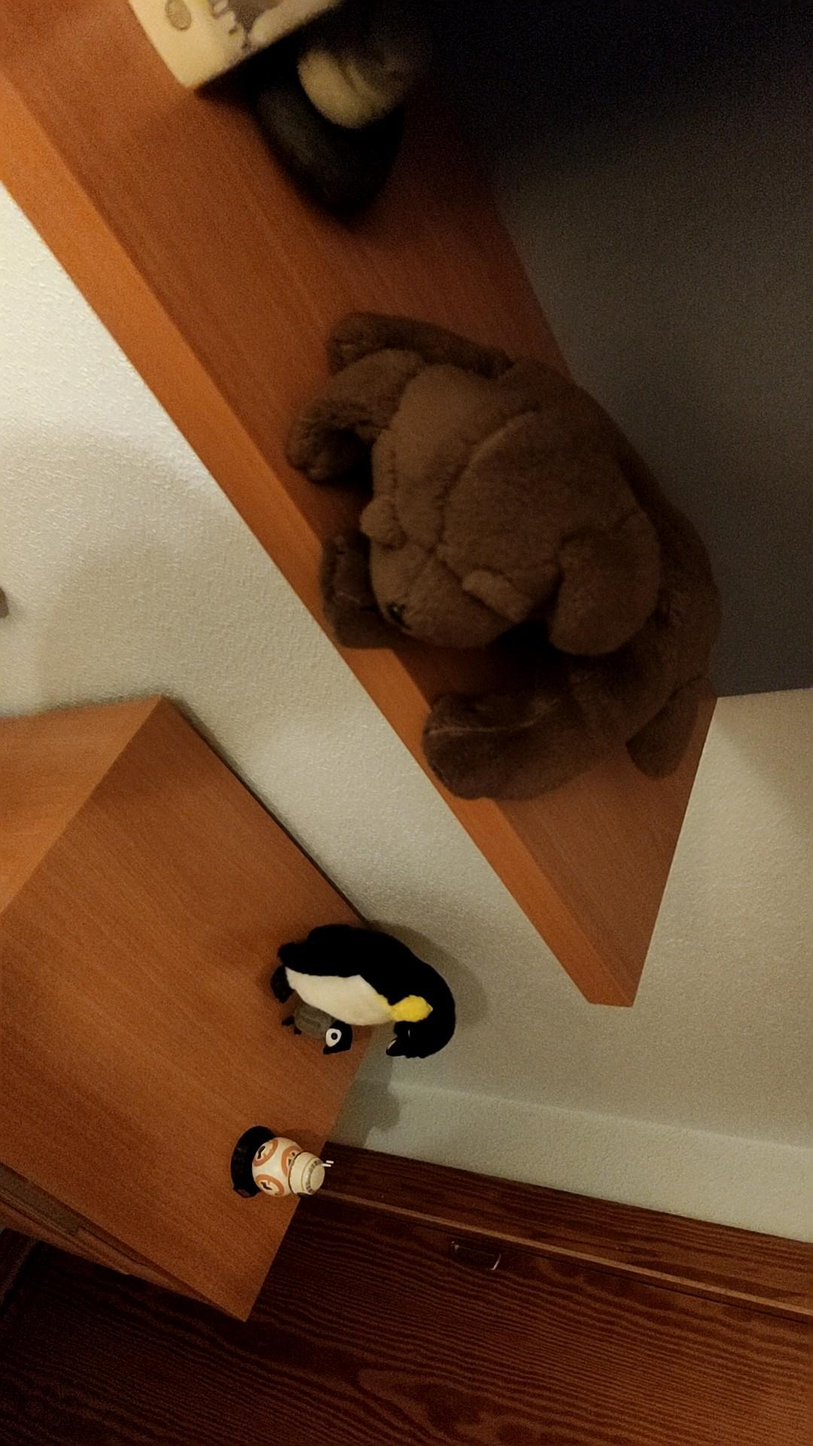toy: (286, 313, 719, 801), (271, 925, 455, 1058)
